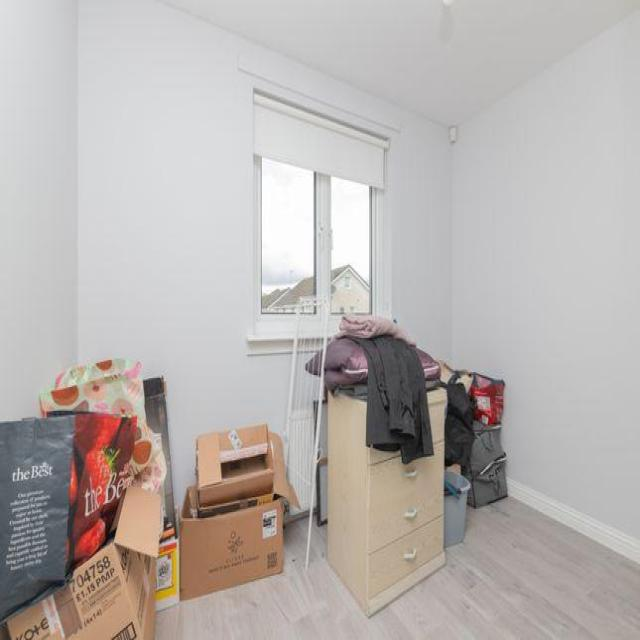Wall: (0, 2, 290, 502), (451, 9, 640, 558), (155, 497, 640, 639), (166, 0, 640, 125), (386, 114, 451, 353)
